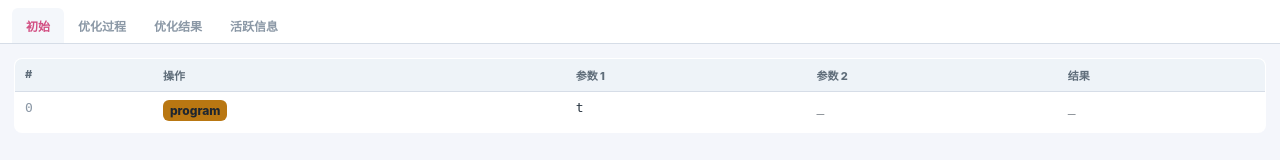
it: QuadruplePanel › shows an empty liveness state when backend data is missing
Click the tab "活跃信息": (254, 26) [216,8,292,43]
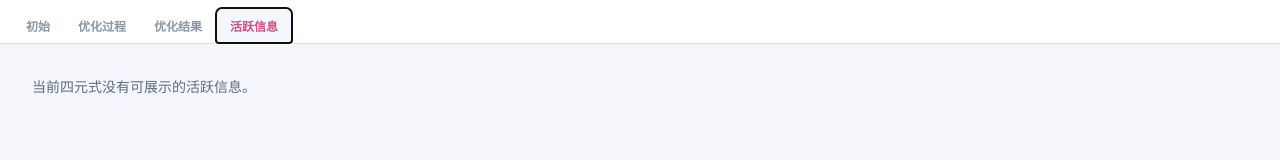
Result: the text "当前四元式没有可展示的活跃信息。" is shown at [32,78,256,95]
